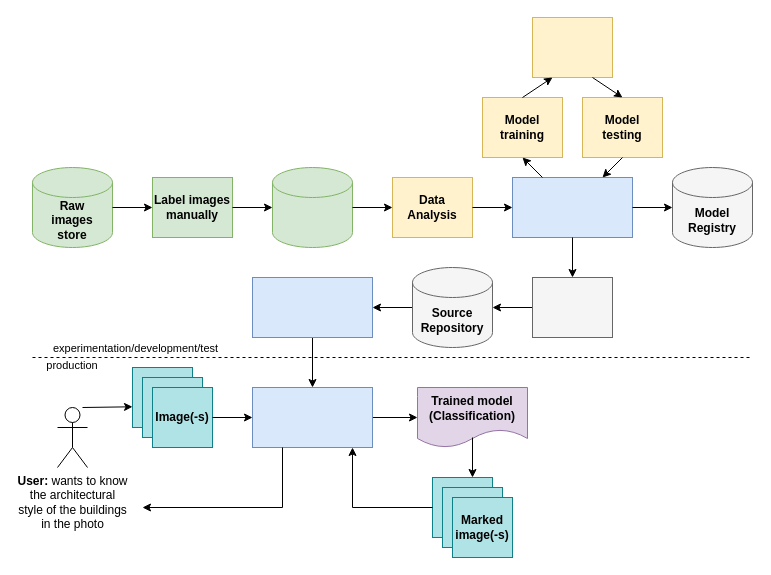
Image size: 771x575. Some labels were removed from this diagram. Each missing label, with the centre of its shape:
CI: Build, test pipeline components: point (312, 307)
Feature store: point (312, 207)
Model serving with ArchEye mobile app (iOS): point (312, 417)
Model validation: point (572, 47)
Orchestrated experiment with MLflow: point (572, 207)
Source code: point (572, 307)
